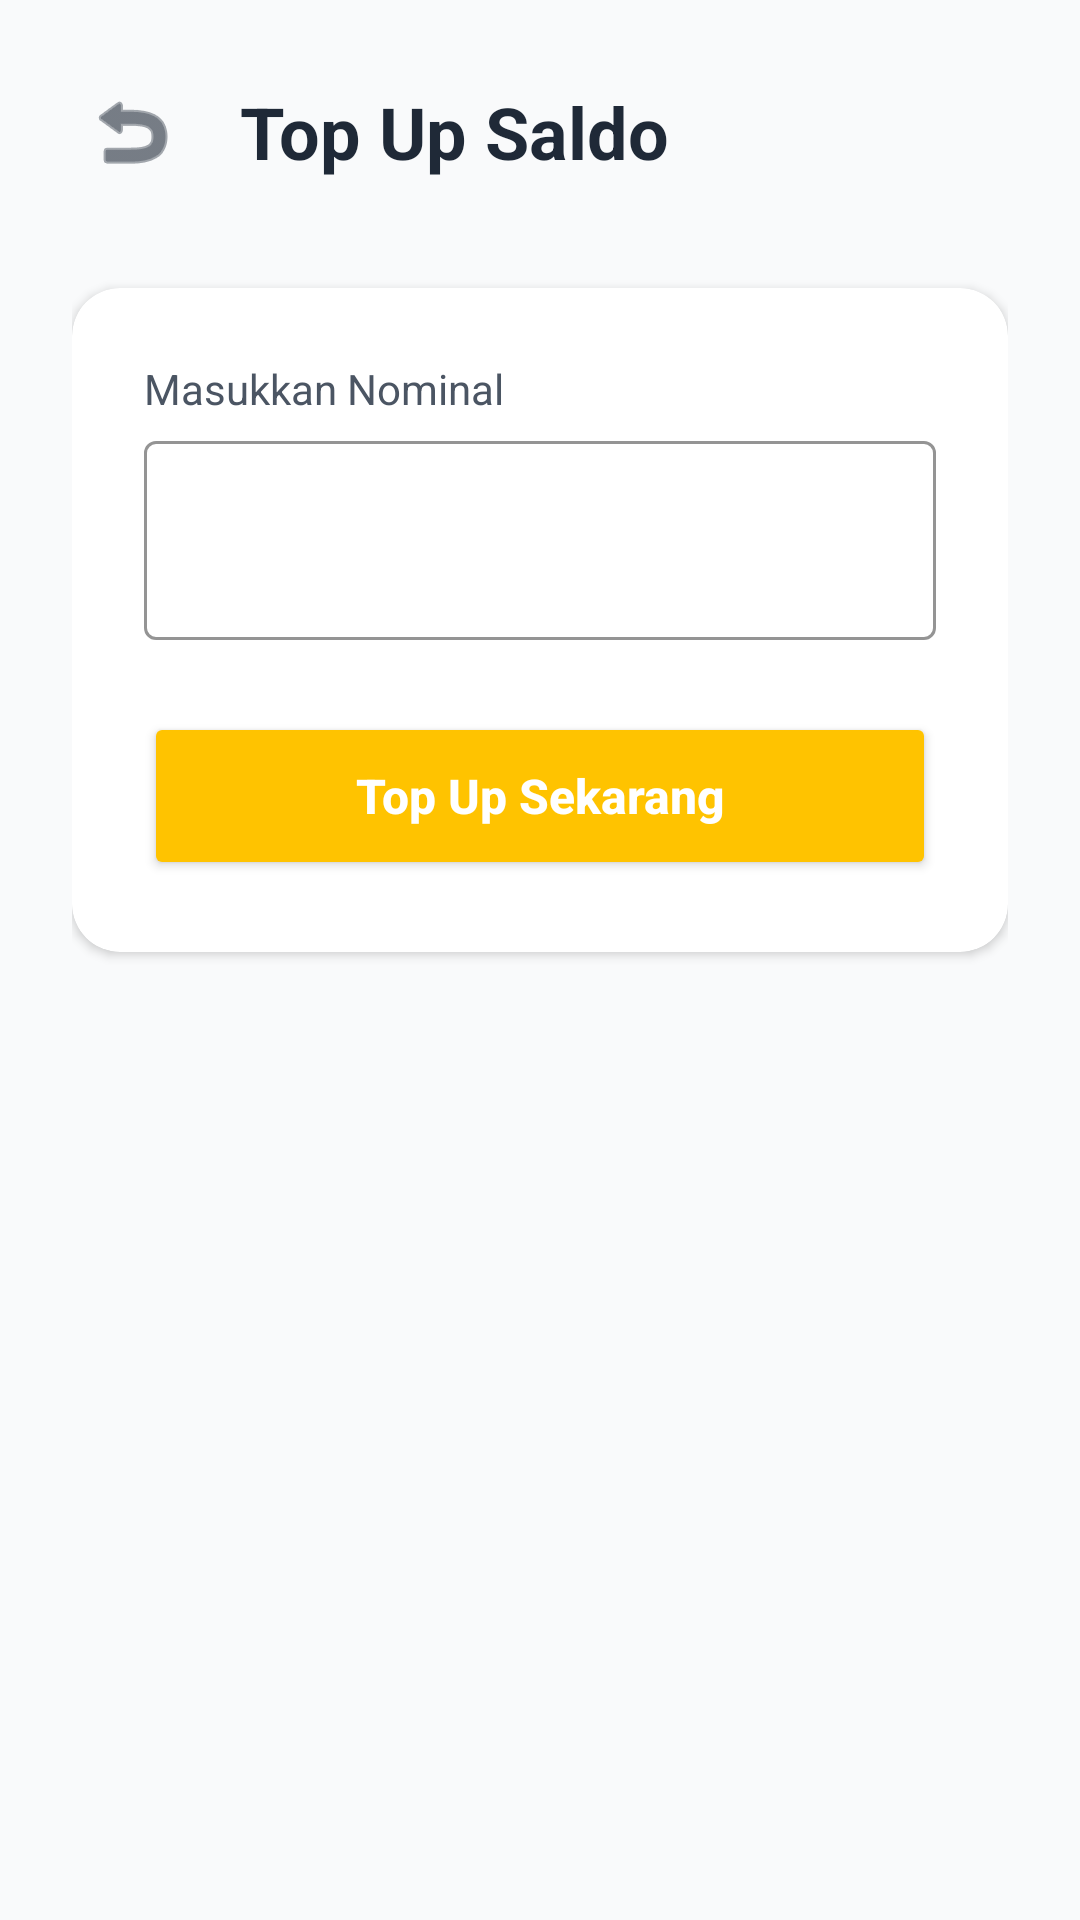

Icon click points for this 1080px×1920px phone screenshot, format [x,y]:
revert: [133,132]
